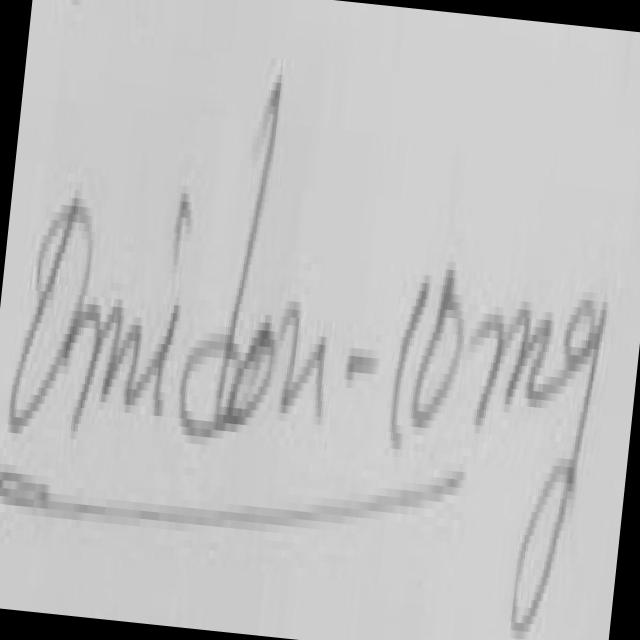0: (414, 270, 462, 424)
1: (391, 283, 428, 445)
O: (11, 198, 89, 429)
d: (173, 50, 287, 453)
g: (510, 289, 610, 640)
i: (144, 311, 174, 417), (172, 220, 189, 261)
m: (71, 290, 154, 431), (475, 301, 565, 419)
n: (283, 302, 325, 413)
o: (226, 323, 270, 421)
